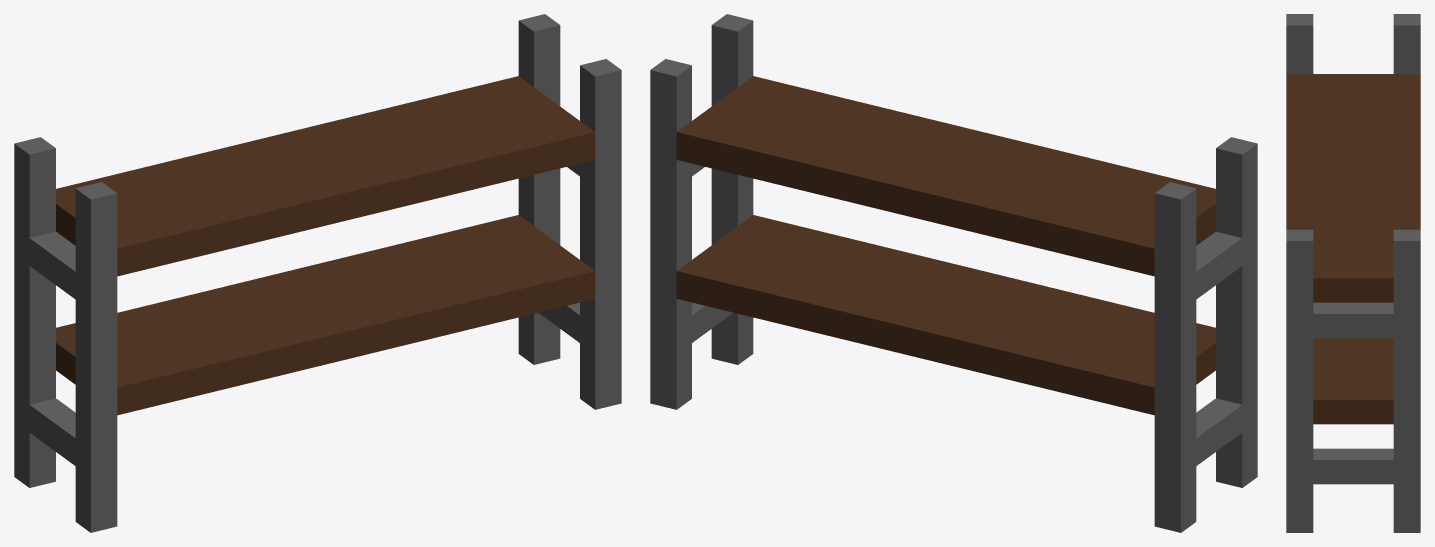
Rendered from warehouse_rack.obj.
The picture shows the model from 3 angles, left to right: view 1: azimuth 30°, elevation 25°; view 2: azimuth 150°, elevation 25°; view 3: azimuth 270°, elevation 25°; orthographic projection. The views are drawn at different scales.
Bounding box in the file's own units: 2 × 1.2 × 0.5.
Materials: 1 (1 with a texture image).
